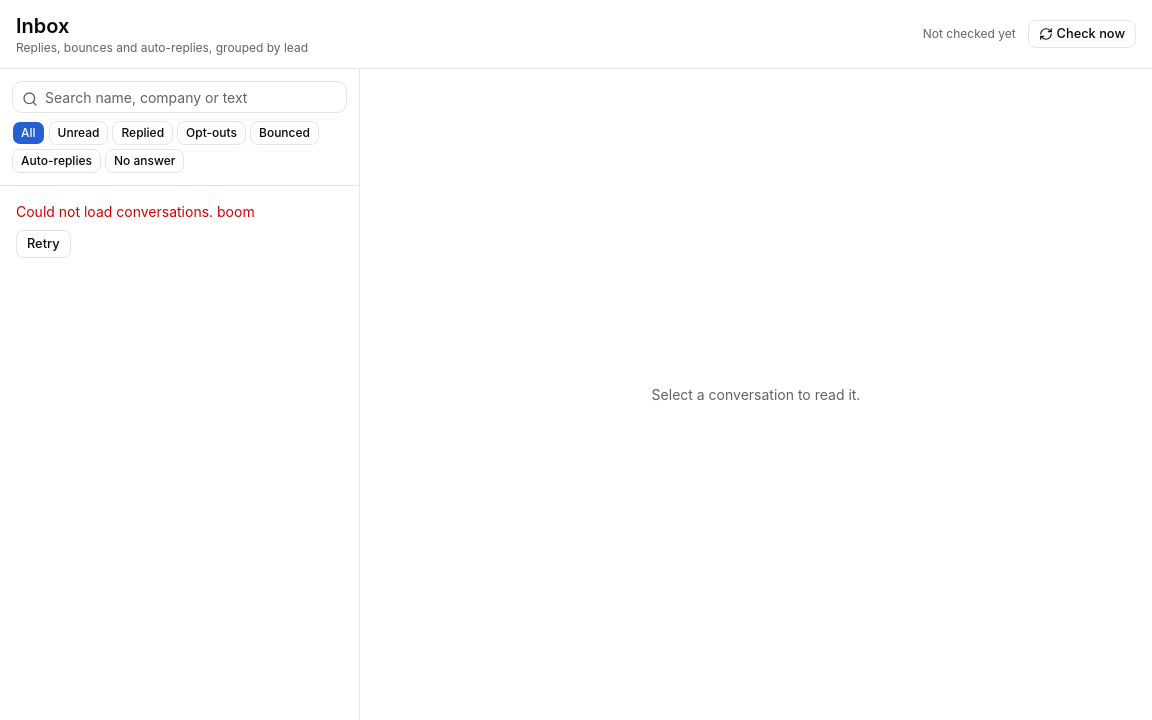
Test case: InboxPage › shows an empty state, and a retry when loading fails
Check: the message shows "Could not load conversations", box [16, 203, 217, 220]
Click the button "Retry" at x=43, y=244, box [16, 230, 70, 258]
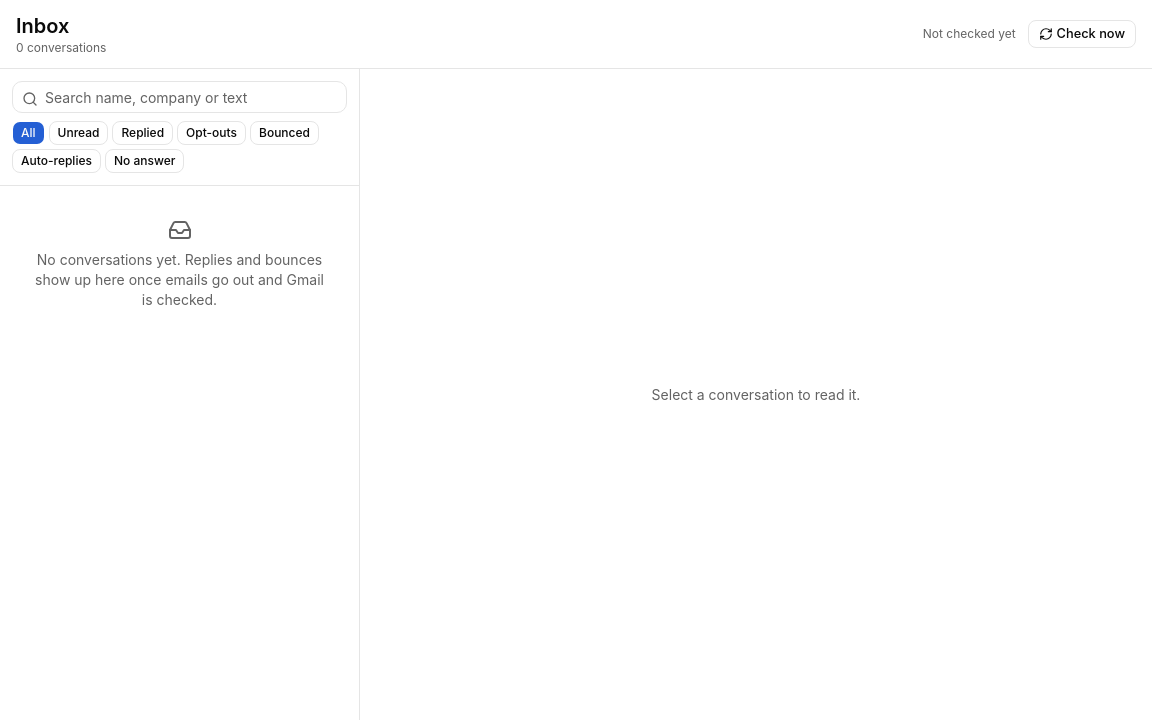
Check: the text "Not checked yet" is shown, box [923, 26, 1016, 41]
Check: the element with test id "inbox-empty" shows "No conversations yet", box [35, 251, 324, 308]
